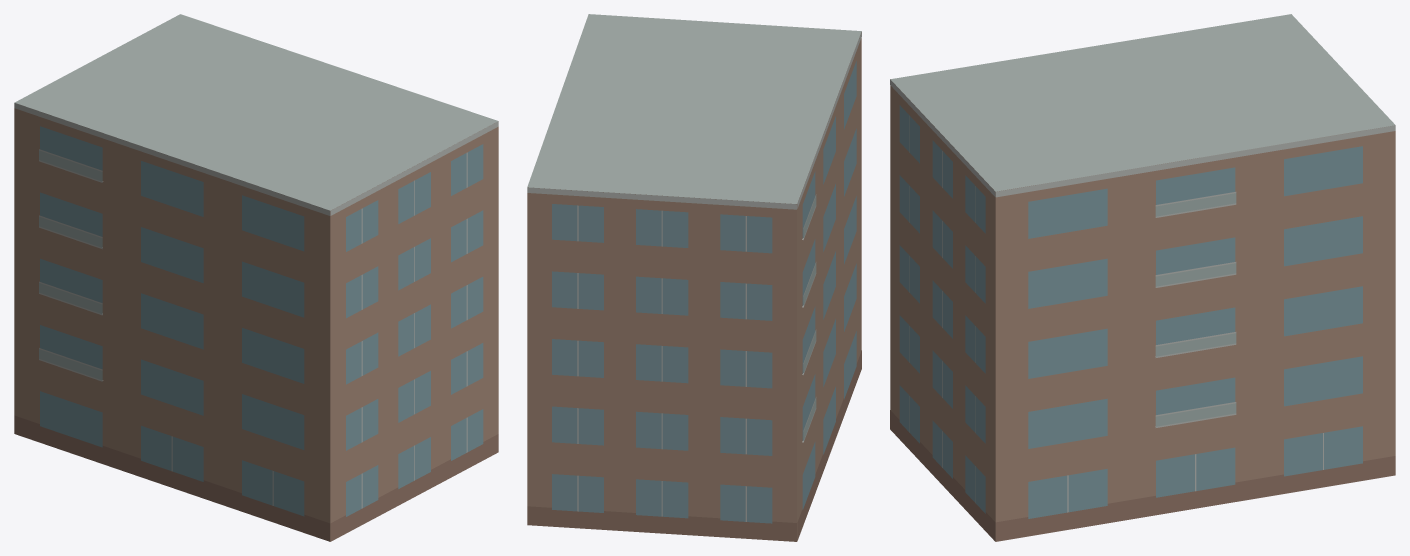
Rendered from survey-upis-32948393.glb.
3 renders of one model, left to right at view 1: azimuth 30°, elevation 25°; view 2: azimuth 150°, elevation 25°; view 3: azimuth 270°, elevation 25°, orthographic. The views are drawn at different scales.
Visible parts, largest first — view 1: survey-upis-32948393.tmp; view 2: survey-upis-32948393.tmp; view 3: survey-upis-32948393.tmp.
Boxes of the visible parts, <box> form: survey-upis-32948393.tmp: <box>14,14,498,541</box>; survey-upis-32948393.tmp: <box>527,14,861,541</box>; survey-upis-32948393.tmp: <box>890,14,1395,541</box>.
Size of the model in its own units: 16.11 by 14.8 by 19.37.
